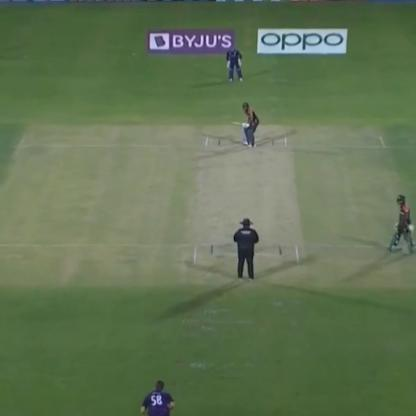bat: (224, 116, 245, 132)
pitch: (191, 133, 294, 271)
